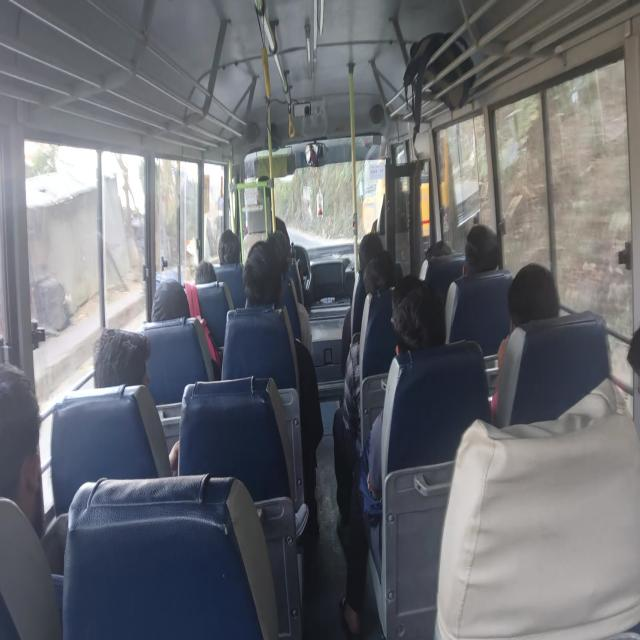person: (4, 359, 54, 535), (388, 273, 446, 357), (506, 253, 562, 331), (90, 328, 156, 392), (463, 218, 506, 278), (242, 233, 278, 298), (153, 280, 190, 326), (364, 250, 399, 291), (358, 232, 388, 270), (423, 236, 460, 266), (262, 221, 286, 266), (196, 256, 220, 290), (219, 230, 241, 267), (384, 175, 409, 205), (255, 176, 274, 200)
